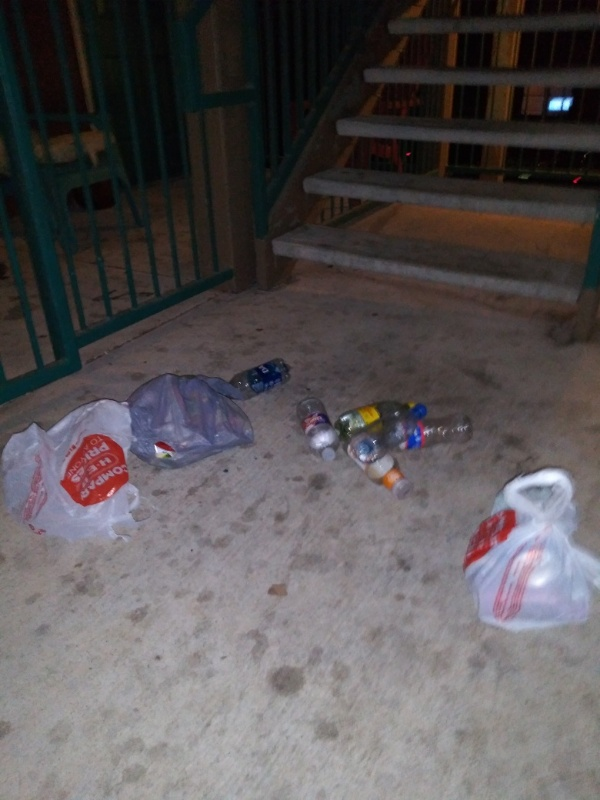bottle: (337, 429, 417, 501), (348, 401, 432, 464), (387, 406, 478, 456), (212, 356, 295, 406), (335, 394, 427, 439), (294, 395, 341, 465)
